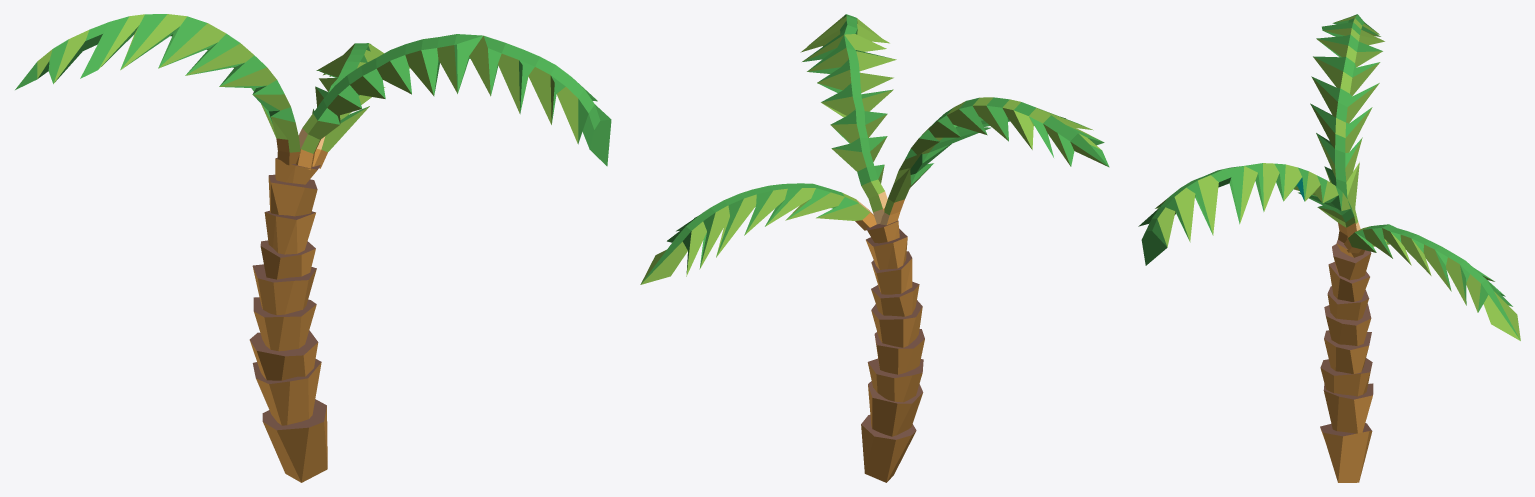
The model's file is palm-tree-small-1.glb.
3 views of the same model, side by side, from view 1: azimuth 30°, elevation 25°; view 2: azimuth 150°, elevation 25°; view 3: azimuth 270°, elevation 25° (orthographic). The views are drawn at different scales.
Visible parts, largest first — view 1: group1180981115; view 2: group1180981115; view 3: group1180981115.
Part boxes in pixels (x1=…): group1180981115: x1=15, y1=14, x2=611, y2=482; group1180981115: x1=640, y1=14, x2=1109, y2=482; group1180981115: x1=1138, y1=14, x2=1520, y2=482.
Bounding box in the file's own units: 0.1784 × 0.1793 × 0.1598.
